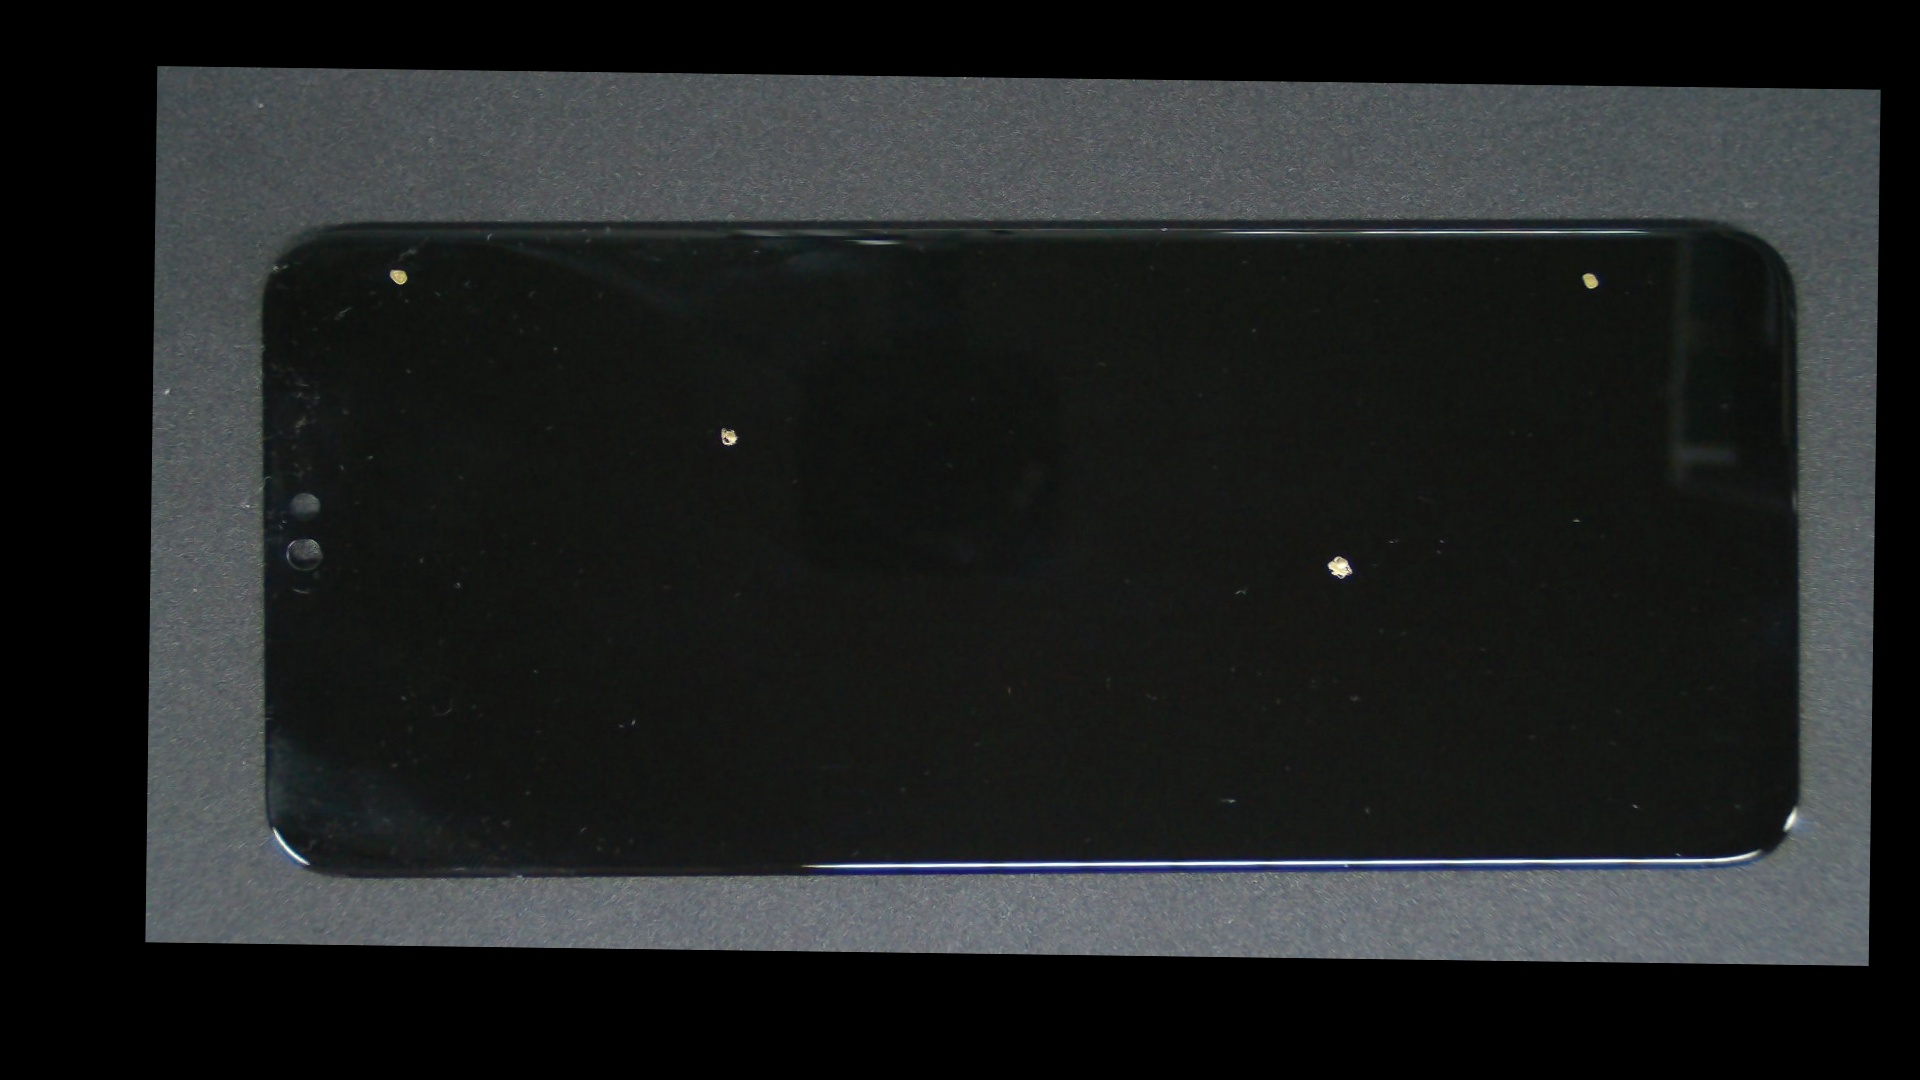oil: (741, 310, 1878, 800), (436, 245, 1009, 608), (870, 169, 1879, 371), (273, 166, 513, 369)
